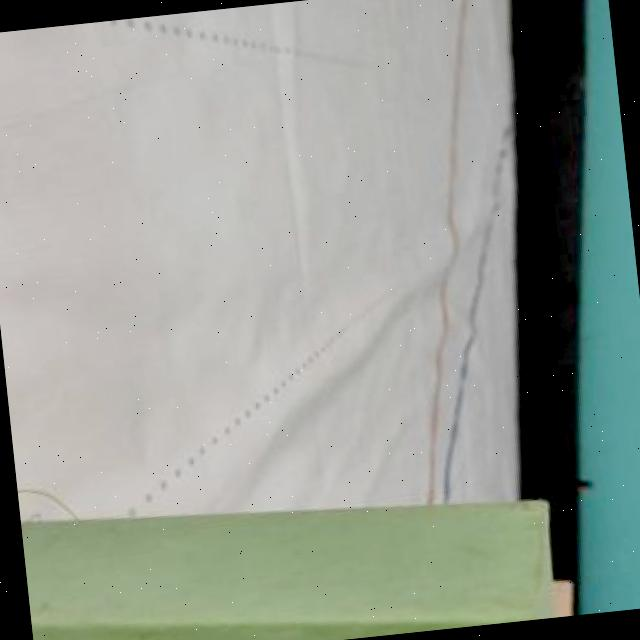greenbox: (19, 462, 564, 640)
